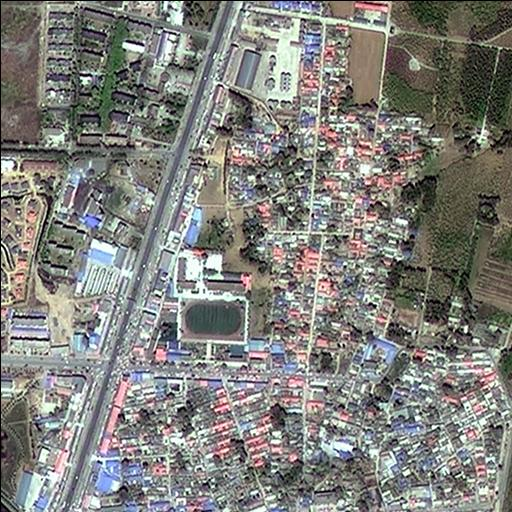school: (173, 240, 251, 366)
